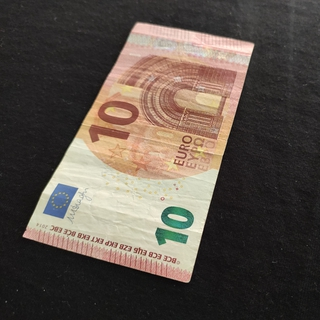10EUROFront: (21, 21, 255, 284)
